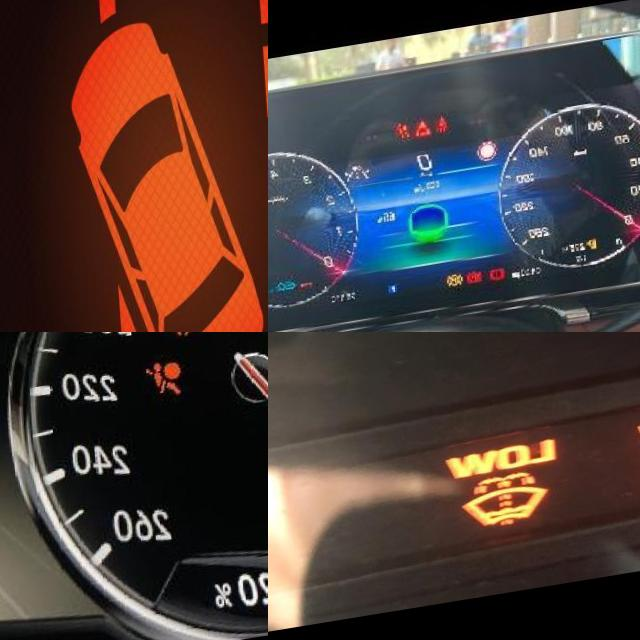Seat Belt: (433, 127, 447, 144)
Washer Fluid: (451, 481, 542, 546)
